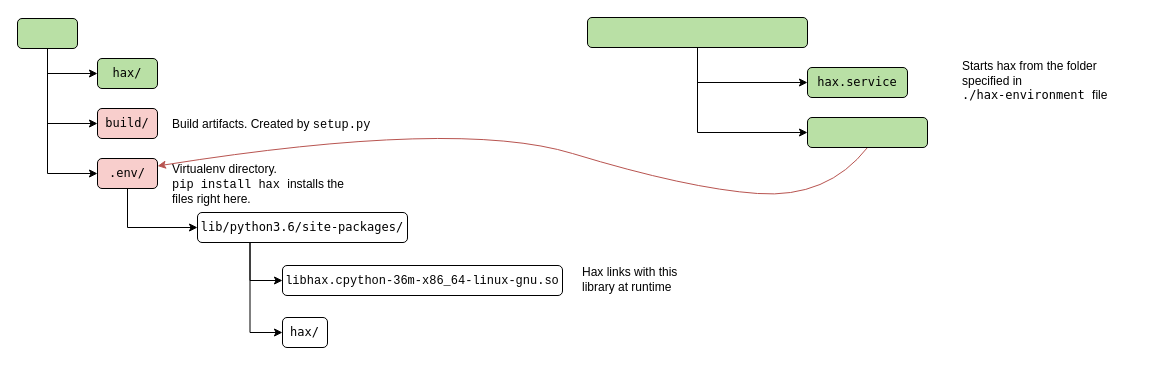
This 1155x365 diagram has some shape labels left out. Each missing label, with the box of its shape:
/opt/seagate/consul/systemd/: (586, 16, 808, 48)
hare/: (16, 18, 78, 48)
hax-environment: (806, 116, 928, 148)
